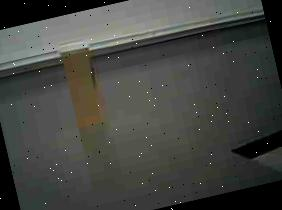Bottle A: (52, 32, 120, 138)
